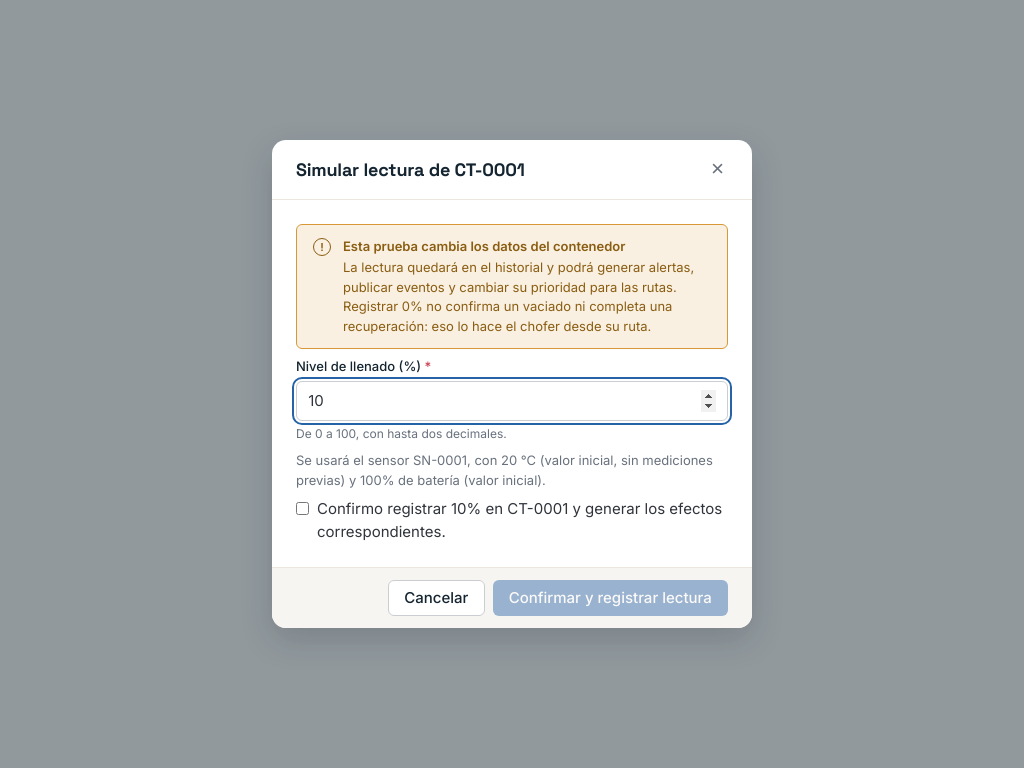
Test: Simular lectura › conserva los datos ante error y permite corregir sin cerrar: {}
Expected: the text "valor inicial, sin mediciones previas" is shown, x1=296 y1=452 x2=713 y2=488
Click the checkbox at (302, 509), box x1=296 y1=502 x2=309 y2=515
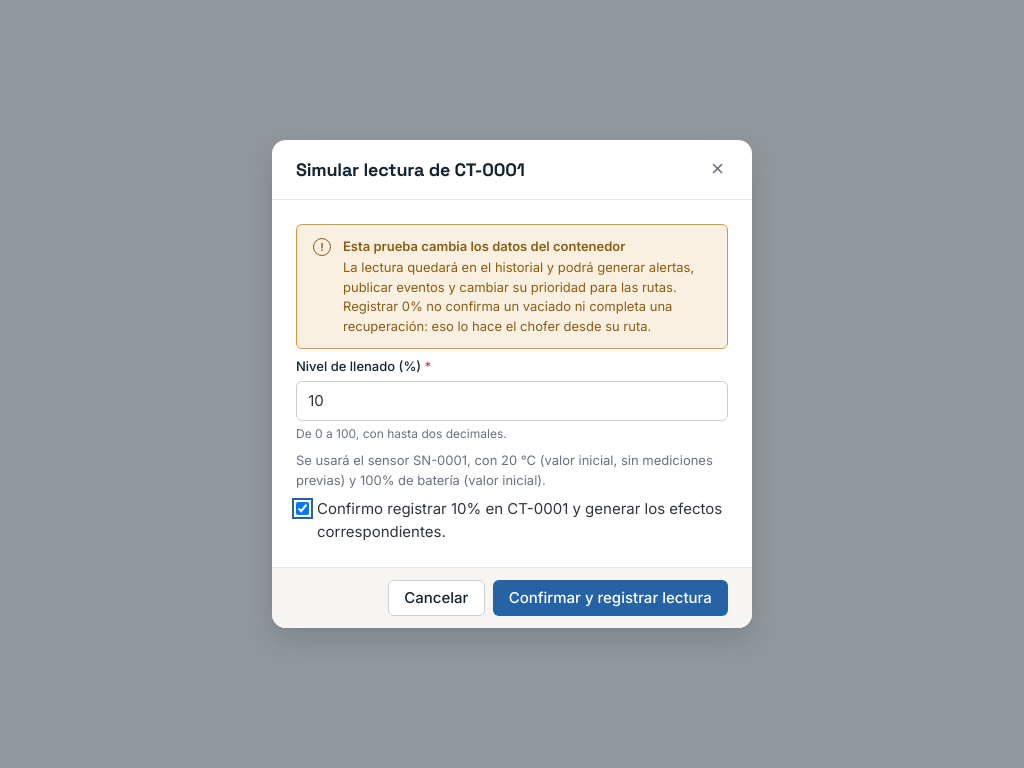
Click the button "Confirmar y registrar lectura" at (610, 598), box x1=492 y1=580 x2=728 y2=616
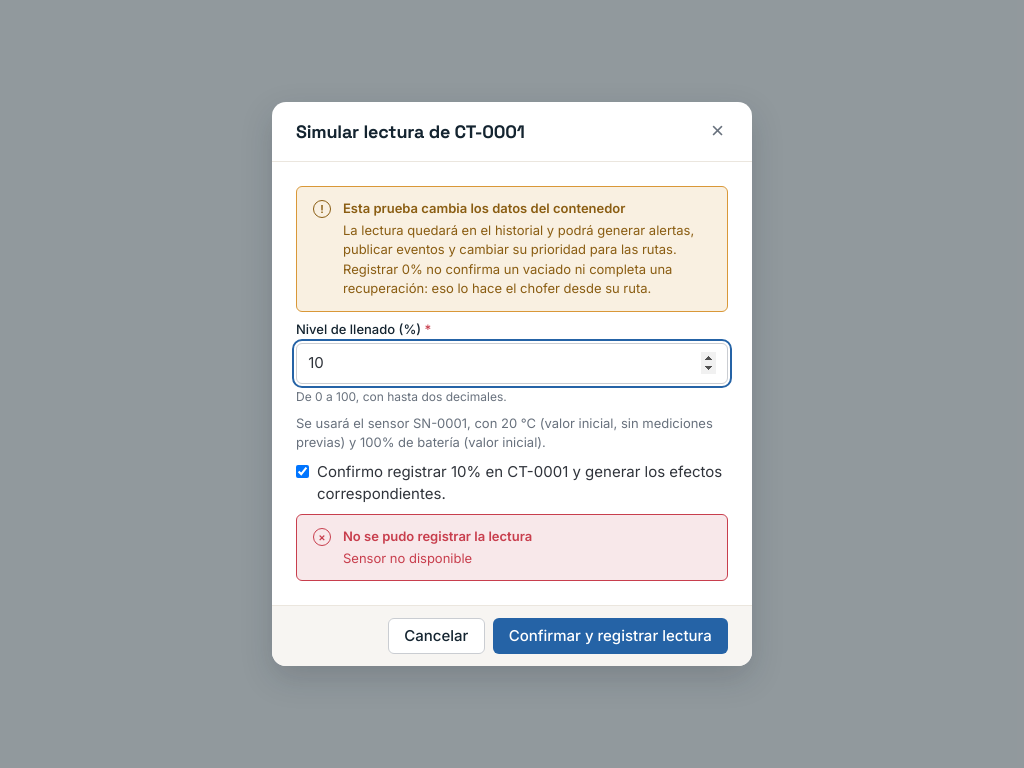
Expected: the number field labelled "Nivel de llenado (%) *" holds "10", x1=296 y1=343 x2=728 y2=384
Expected: the text "Sensor no disponible" is shown, x1=343 y1=550 x2=472 y2=566
